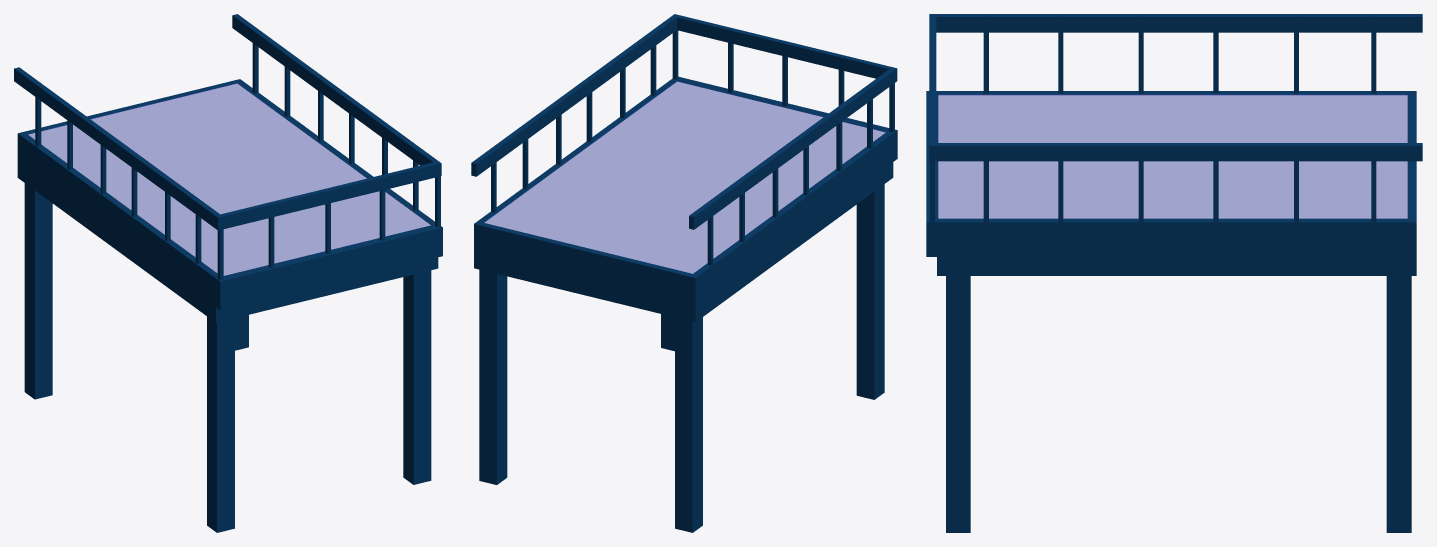
Rendered from gate_sidewalk.fbx.
The picture shows the model from 3 angles, left to right: view 1: azimuth 30°, elevation 25°; view 2: azimuth 150°, elevation 25°; view 3: azimuth 270°, elevation 25°; orthographic projection. The views are drawn at different scales.
Parts seen in each view (by area): view 1: gate; view 2: gate; view 3: gate.
Boxes of the visible parts, x1=… form: gate: x1=14, y1=14, x2=442, y2=532; gate: x1=471, y1=14, x2=897, y2=532; gate: x1=926, y1=14, x2=1422, y2=532.
Bounding box in the file's own units: 549 × 754 × 873.
